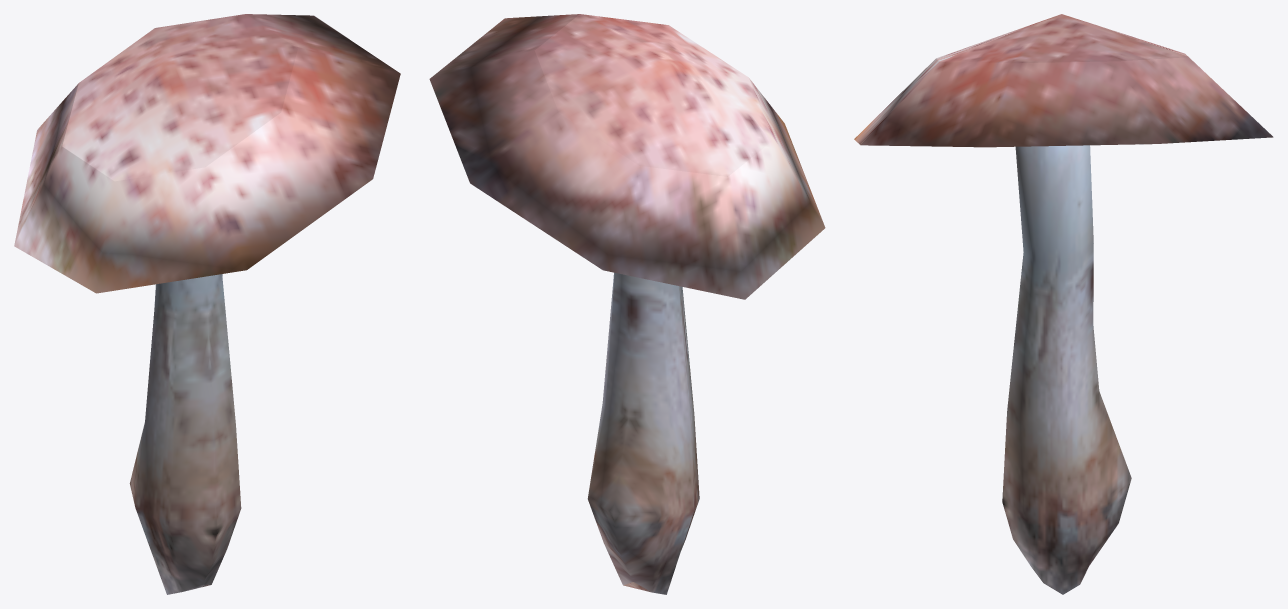
File: SM_TOADSTOOL_02.FBX
3 views of the same model, side by side, from view 1: azimuth 30°, elevation 25°; view 2: azimuth 150°, elevation 25°; view 3: azimuth 270°, elevation 25° (orthographic). The views are drawn at different scales.
Visible parts, largest first — view 1: SM_TOADSTOOL_02; view 2: SM_TOADSTOOL_02; view 3: SM_TOADSTOOL_02.
Part boxes in pixels (x1,y1,x2,y2): SM_TOADSTOOL_02: (14, 14, 400, 594); SM_TOADSTOOL_02: (429, 14, 825, 594); SM_TOADSTOOL_02: (854, 14, 1273, 594).
Bounding box in the file's own units: 8.09 × 8.89 × 13.24.
